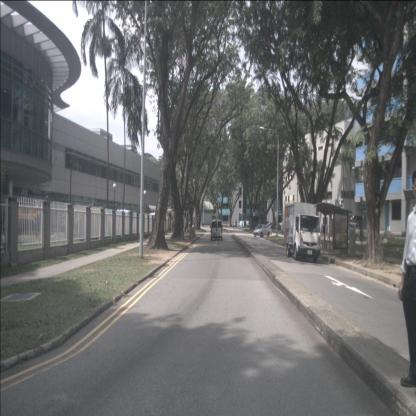human-pedestrian-adult: (398, 169, 416, 388)
vehicle-car: (210, 219, 223, 241), (253, 223, 271, 238), (230, 221, 237, 228)
vehicle-truck: (283, 201, 321, 264), (343, 222, 370, 243), (237, 221, 247, 228)
